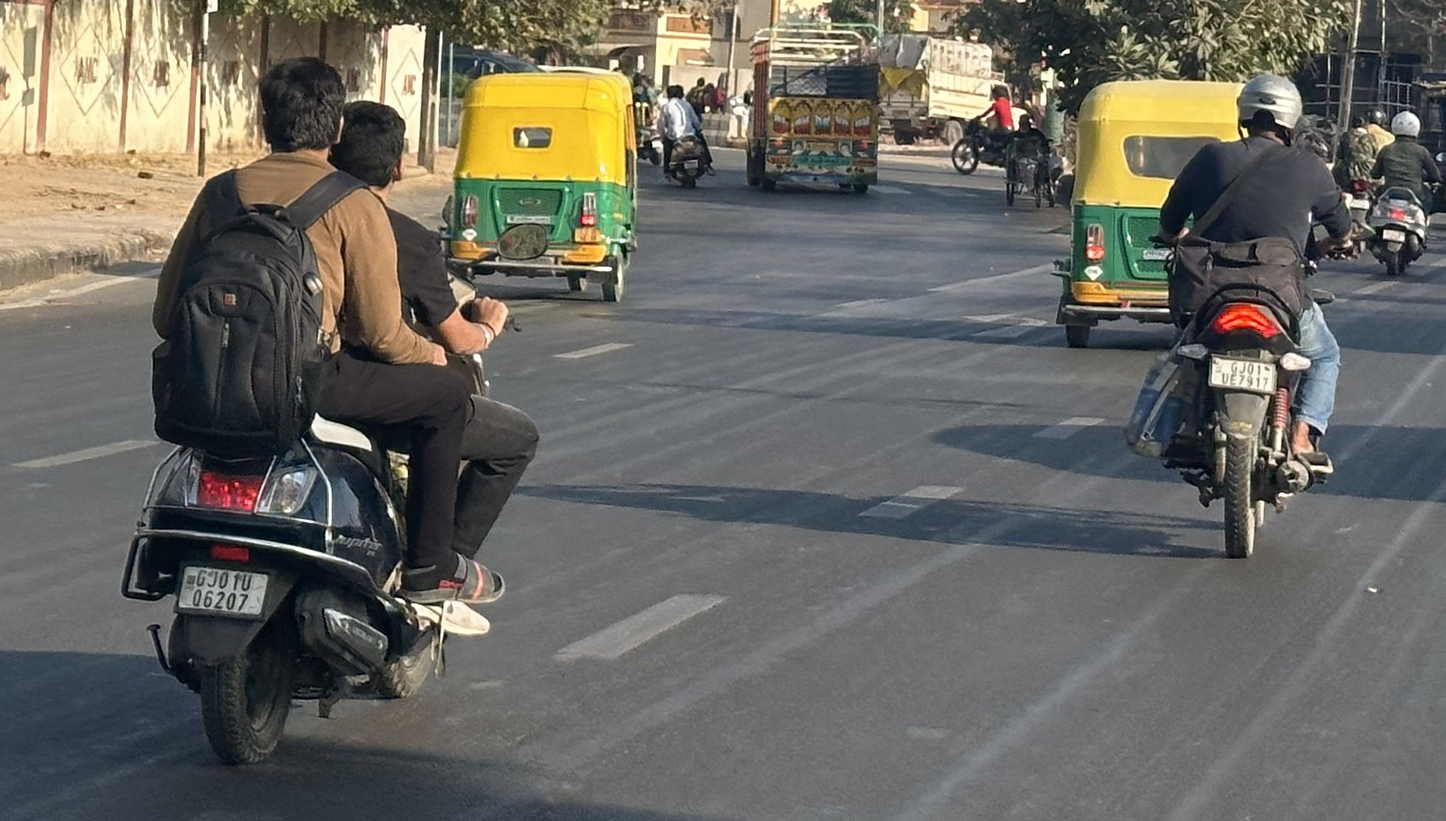BikeWithRider: (100, 34, 568, 776), (1114, 26, 1381, 597), (1372, 98, 1444, 287), (950, 72, 1047, 187), (1342, 101, 1415, 244), (648, 73, 730, 195)
Helmet: (1236, 69, 1307, 136), (1386, 104, 1429, 140), (1364, 107, 1389, 130)
NoHelmet: (254, 58, 354, 159), (339, 86, 412, 190), (1354, 112, 1368, 132)
